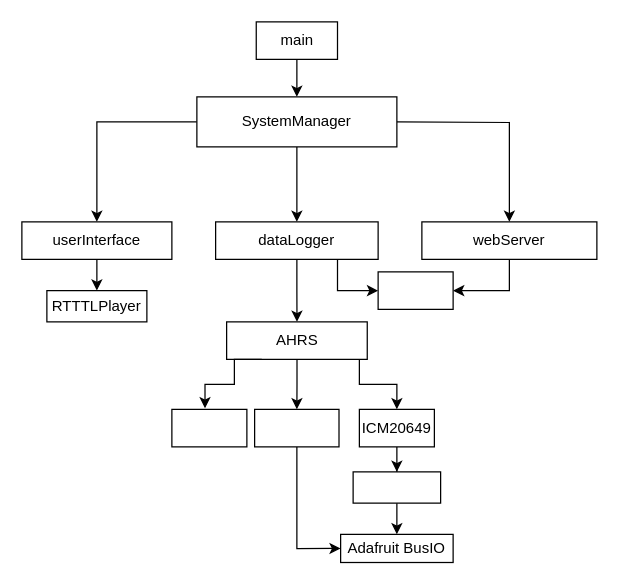
Some shapes in this 619 by 585 pixel diagram are drawn without their labels. Here are the shapes that lost their labels. From the top down, the box of each, then its label:
(377, 271, 453, 309): SD Card
(171, 408, 247, 447): Madgwick
(253, 408, 339, 447): LIS3MDL
(352, 471, 441, 503): ICM20X
